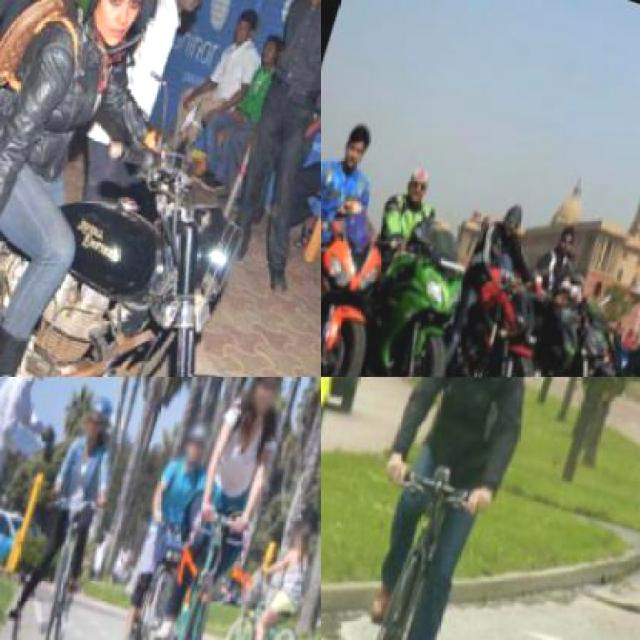With Helmet: (62, 0, 180, 43), (235, 377, 294, 421), (175, 412, 213, 470), (80, 392, 114, 446)
Without Helmet: (334, 115, 378, 171), (284, 516, 316, 558), (551, 213, 580, 258), (402, 159, 430, 201), (498, 194, 525, 235)
